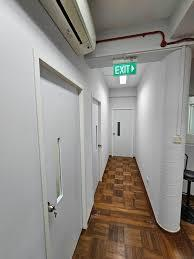exit: (39, 63, 83, 257), (110, 110, 135, 157)
lit_exit_sign: (113, 62, 136, 78)
